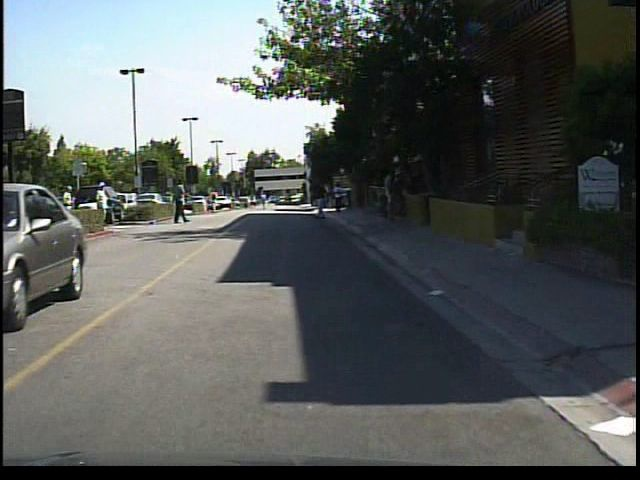person: (381, 158, 406, 228), (311, 167, 337, 222), (169, 173, 193, 226), (93, 176, 116, 226), (397, 165, 417, 220), (60, 180, 80, 232), (332, 176, 348, 216), (208, 186, 224, 215), (258, 189, 274, 212)
